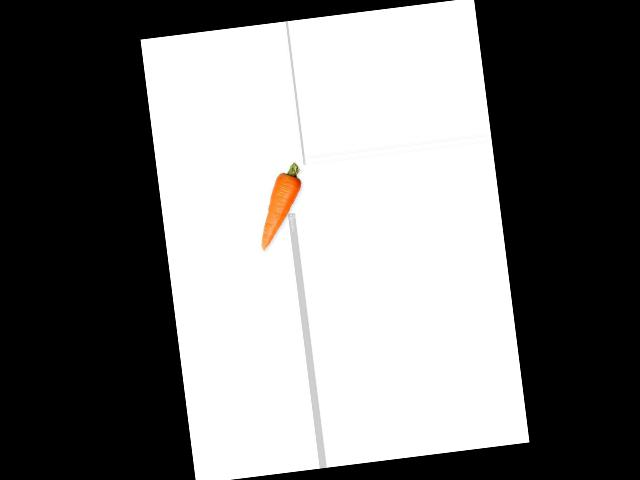carrot: (250, 162, 310, 251)
